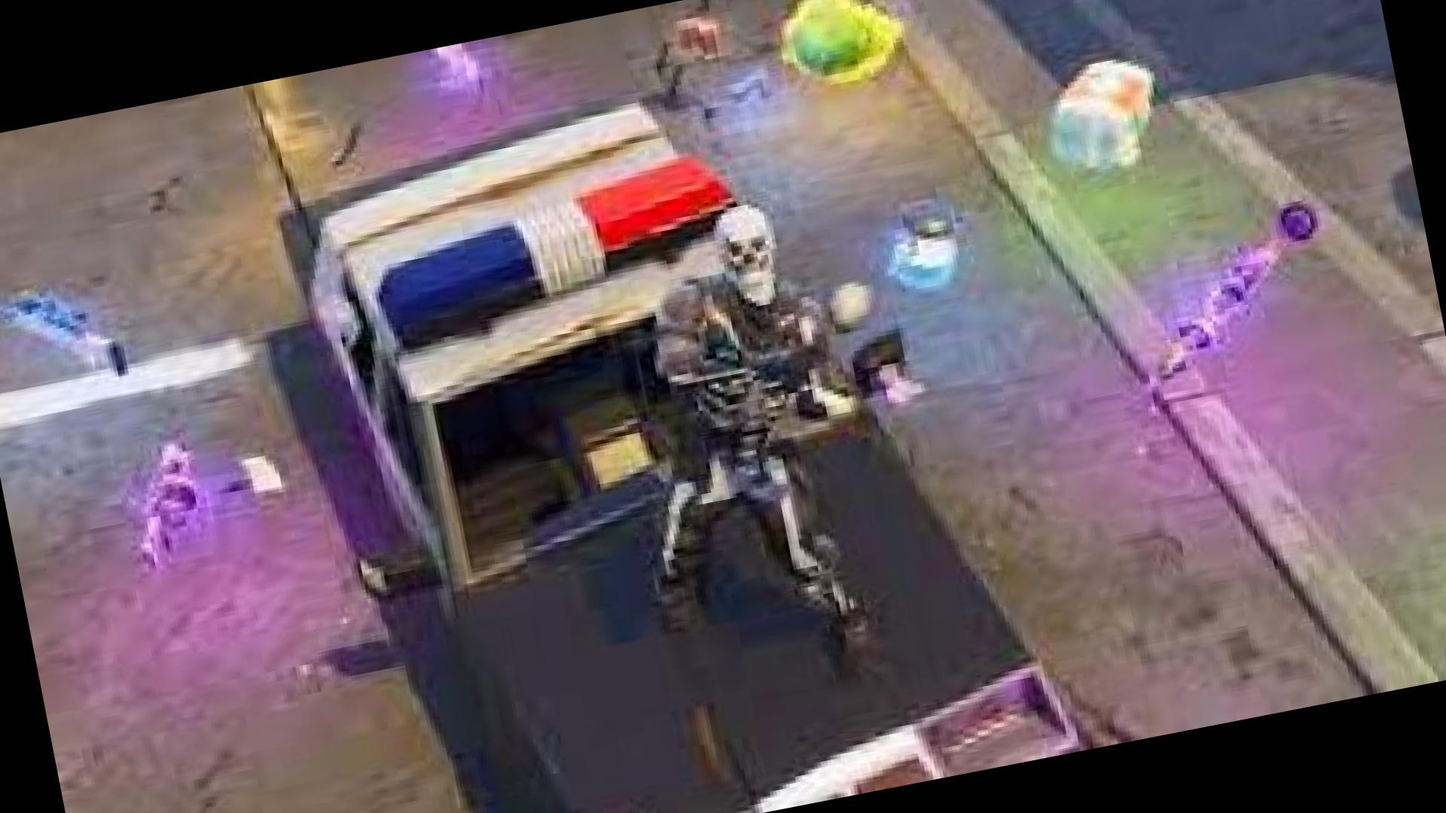player: (676, 220, 896, 676)
